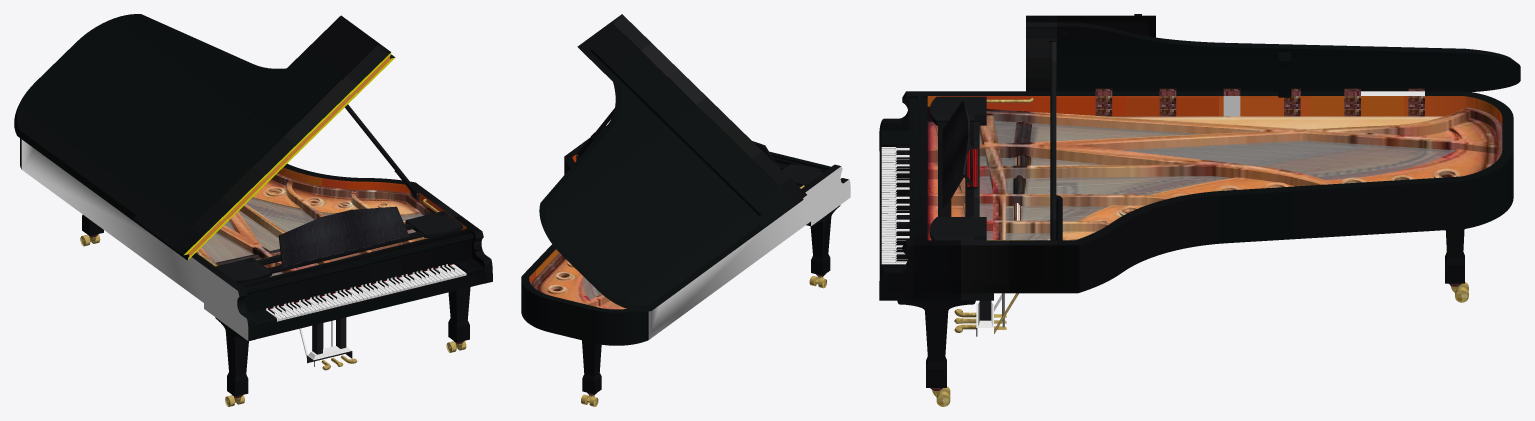
Rendered from Piano.glb.
The picture shows the model from 3 angles, left to right: view 1: azimuth 30°, elevation 25°; view 2: azimuth 150°, elevation 25°; view 3: azimuth 270°, elevation 25°; orthographic projection. The views are drawn at different scales.
Visible parts, largest first — view 1: Object_16, Object_15, Object_13, Object_14, Object_10, Object_4, Object_6, Object_19, Object_11, Object_17, Object_9; view 2: Object_16, Object_15, Object_13, Object_17; view 3: Object_16, Object_13, Object_10, Object_6, Object_14, Object_12, Object_4, Object_15, Object_17.
Part boxes in pixels (left/top/right/bottom): Object_16: left=14, top=14, right=492, bottom=396; Object_15: left=21, top=139, right=454, bottom=401; Object_13: left=196, top=173, right=435, bottom=275; Object_14: left=268, top=192, right=454, bottom=314; Object_10: left=201, top=198, right=423, bottom=276; Object_4: left=267, top=264, right=465, bottom=319; Object_6: left=278, top=167, right=466, bottom=229; Object_19: left=184, top=52, right=450, bottom=401; Object_11: left=188, top=57, right=394, bottom=259; Object_17: left=80, top=193, right=466, bottom=406; Object_9: left=277, top=273, right=466, bottom=321; Object_16: left=521, top=14, right=848, bottom=394; Object_15: left=595, top=166, right=850, bottom=402; Object_13: left=530, top=187, right=799, bottom=309; Object_17: left=577, top=155, right=826, bottom=406; Object_16: left=879, top=14, right=1520, bottom=387; Object_13: left=927, top=106, right=1502, bottom=240; Object_10: left=979, top=120, right=1455, bottom=240; Object_6: left=927, top=96, right=1502, bottom=127; Object_14: left=896, top=100, right=972, bottom=261; Object_12: left=1095, top=88, right=1424, bottom=116; Object_4: left=881, top=147, right=909, bottom=264; Object_15: left=896, top=91, right=1462, bottom=400; Object_17: left=932, top=97, right=1468, bottom=406.
Bounding box in the file's own units: 46.33 × 49.64 × 78.88.
Materials: 17 (15 with a texture image).
